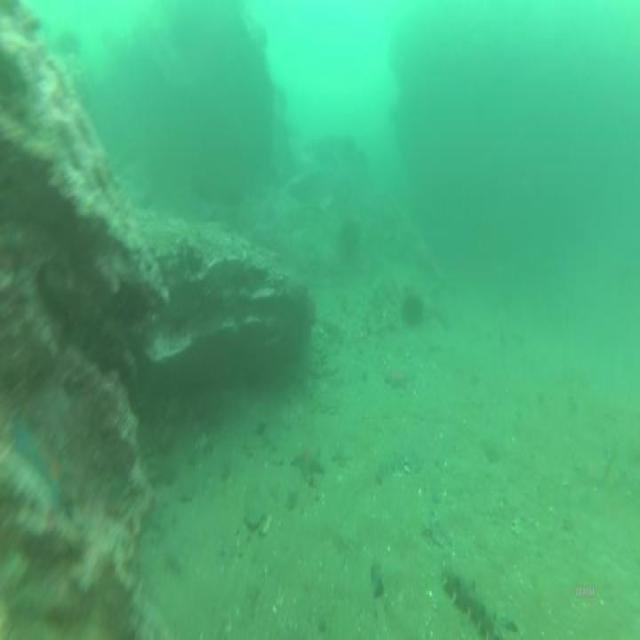echinus: (401, 283, 424, 338)
holothurian: (441, 554, 505, 640)
starfish: (10, 417, 68, 522), (288, 436, 327, 488), (384, 362, 408, 393)
